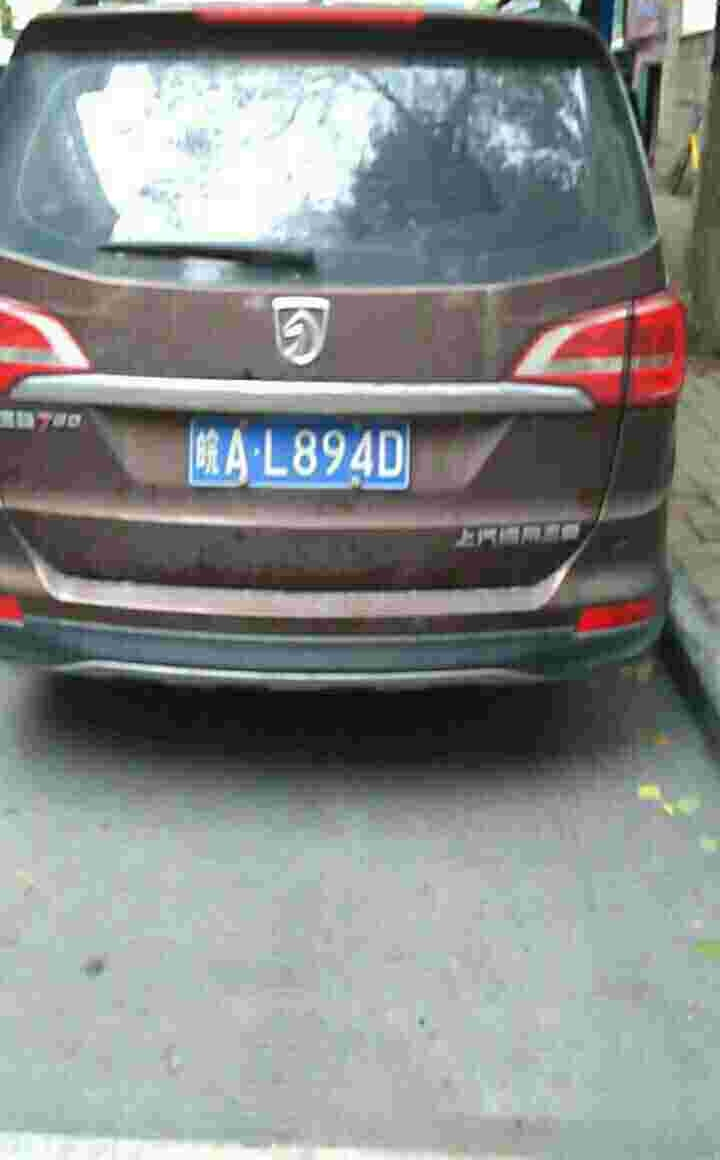license_plate: (182, 414, 412, 491)
